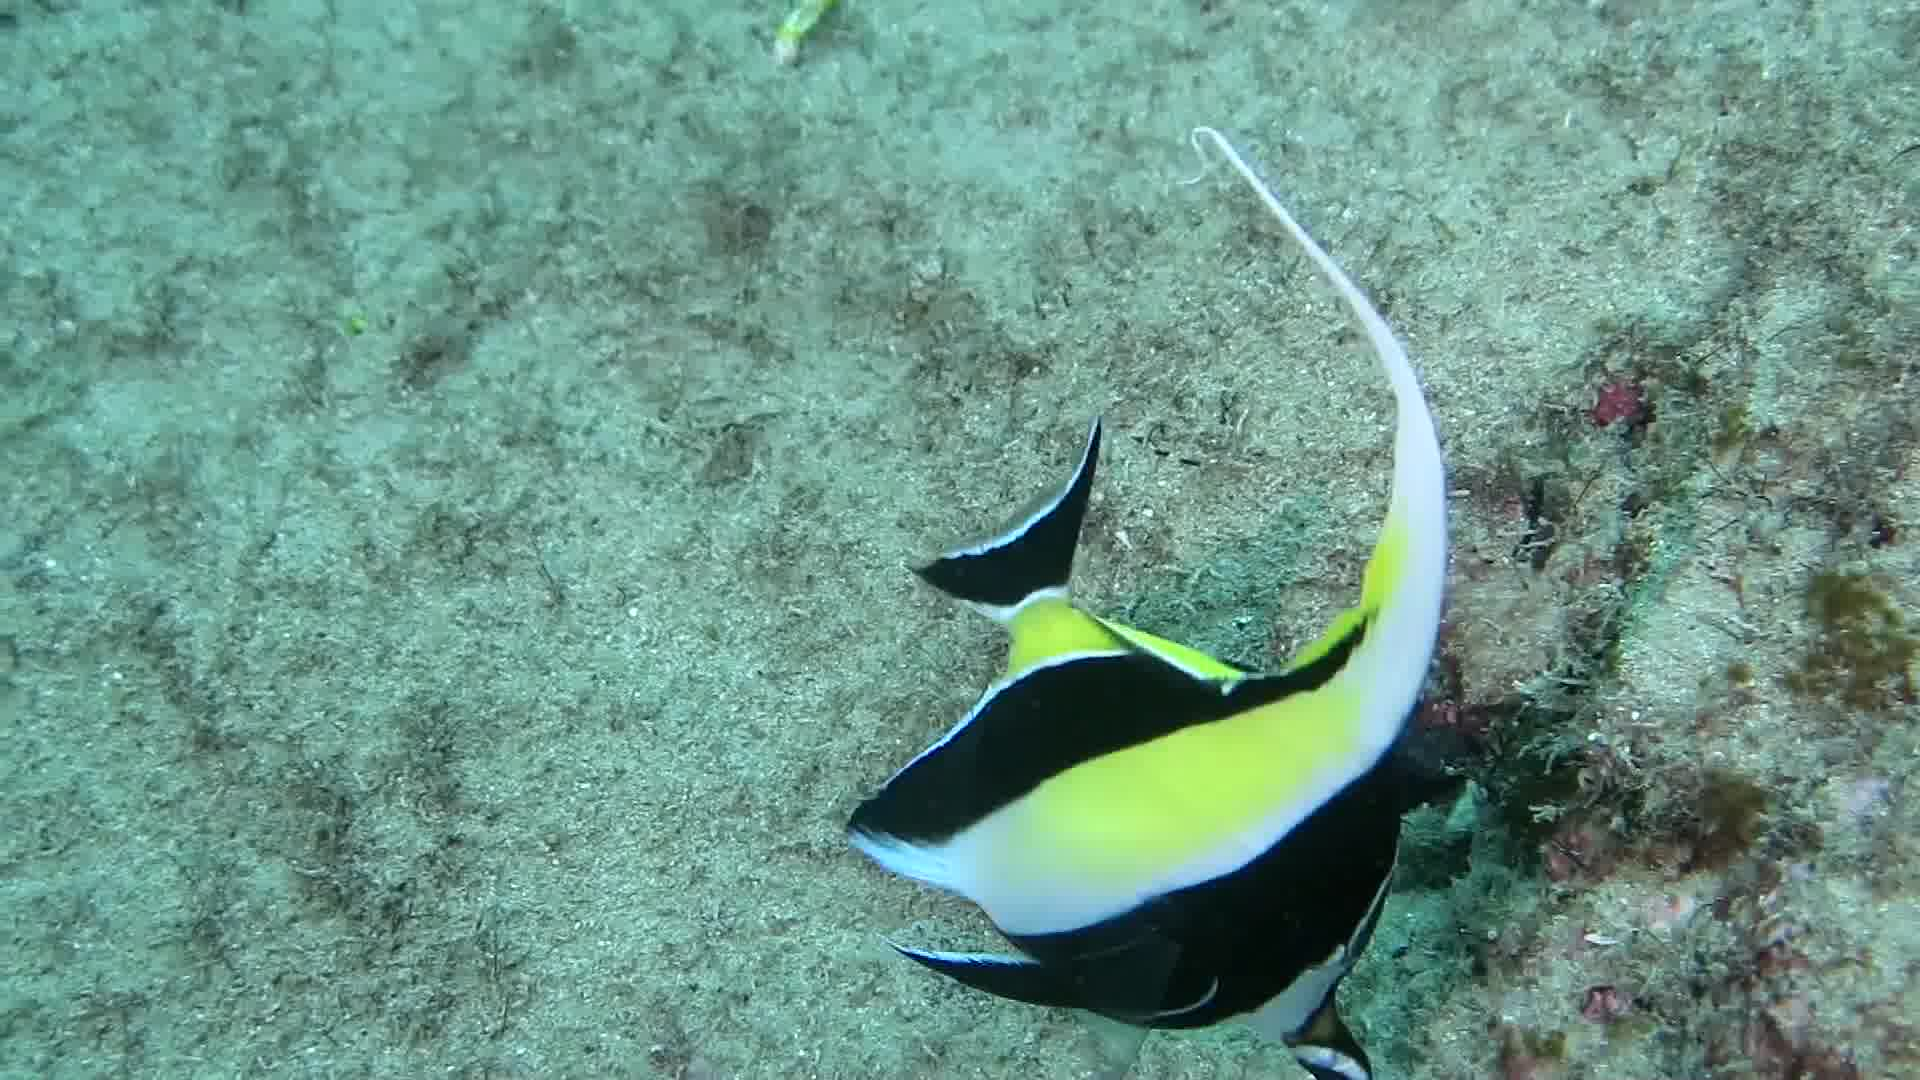Zanclus cornutus: (794, 418, 1559, 1043)
